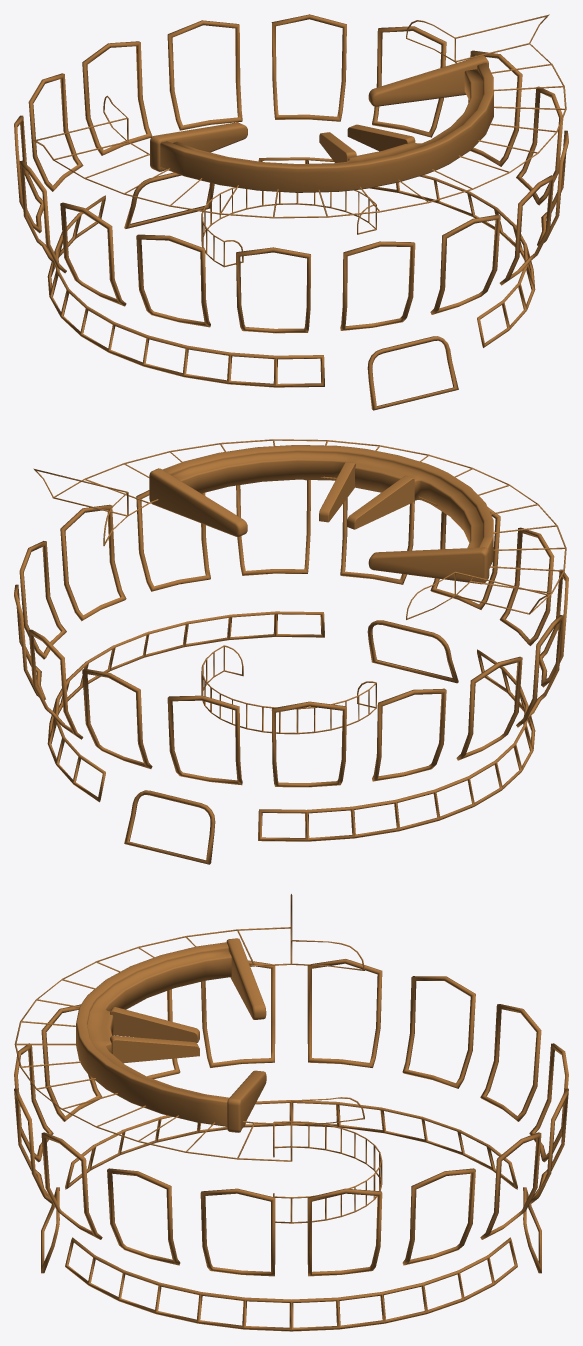
The model's file is metalicrails.glb.
3 renders of one model, top to bottom at view 1: azimuth 30°, elevation 25°; view 2: azimuth 150°, elevation 25°; view 3: azimuth 270°, elevation 25°, orthographic.
Parts seen in each view (by area): view 1: MetalicRails; view 2: MetalicRails; view 3: MetalicRails.
Part boxes in pixels (x1,y1,x2,y2): MetalicRails: [14, 14, 568, 410]; MetalicRails: [14, 439, 568, 864]; MetalicRails: [14, 894, 568, 1331].
Size of what is drawn, in the model's own units: 36.27 by 15.58 by 33.59.
